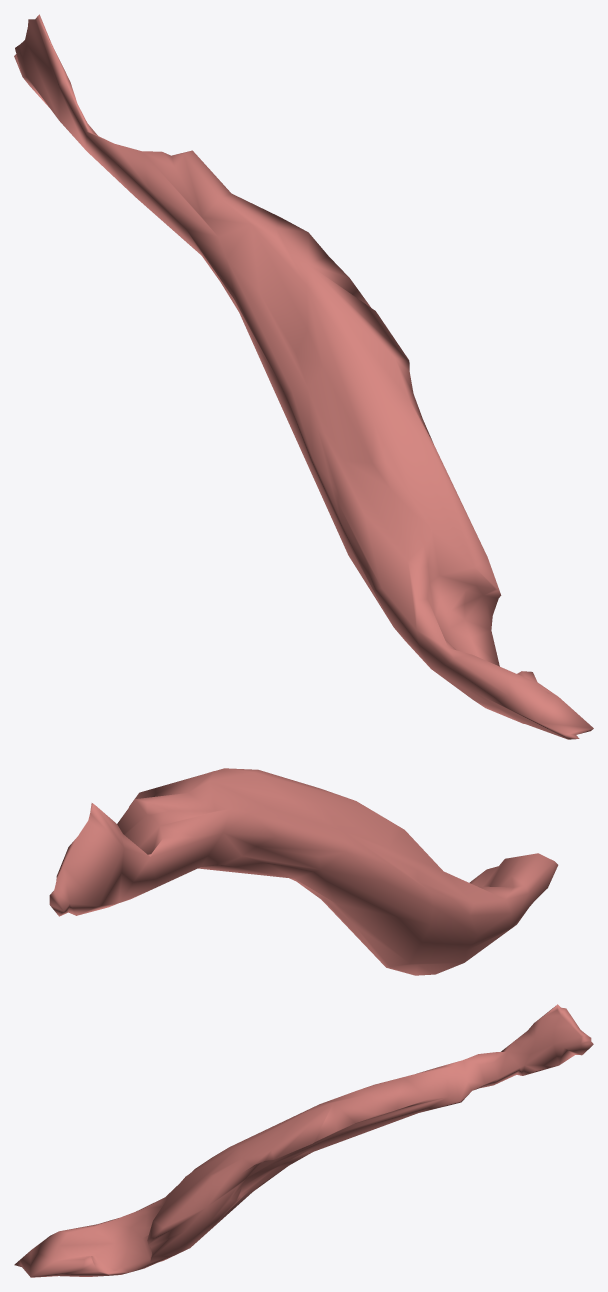
The picture shows the model from 3 angles, top to bottom: view 1: azimuth 30°, elevation 25°; view 2: azimuth 150°, elevation 25°; view 3: azimuth 270°, elevation 25°; orthographic projection. The views are drawn at different scales.
Parts seen in each view (by area): view 1: ZA_4cad67cac3c20d02; view 2: ZA_4cad67cac3c20d02; view 3: ZA_4cad67cac3c20d02.
Boxes of the visible parts, x1,y1,x2,y2 form: ZA_4cad67cac3c20d02: [14, 14, 593, 739]; ZA_4cad67cac3c20d02: [49, 768, 558, 975]; ZA_4cad67cac3c20d02: [14, 1004, 593, 1277].
Size of the model in its own units: 0.013 by 0.0398 by 0.0833.
